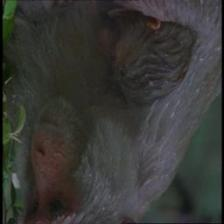monkey: (1, 79, 89, 223), (92, 7, 199, 106)
